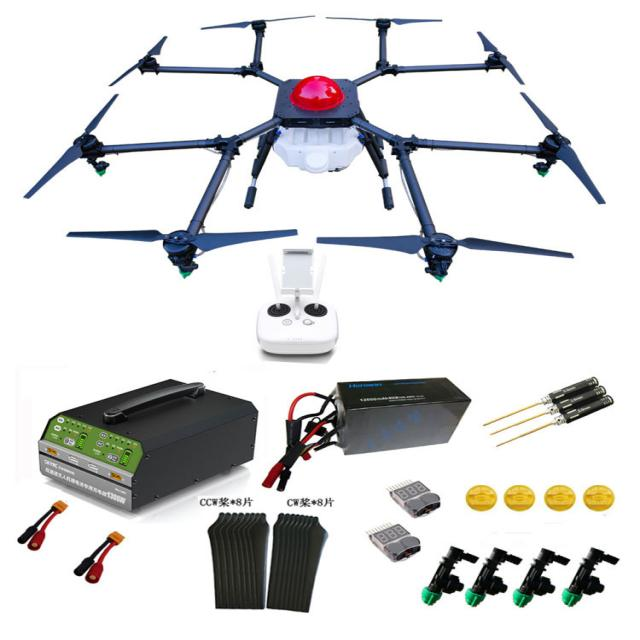drone: (42, 0, 632, 284)
